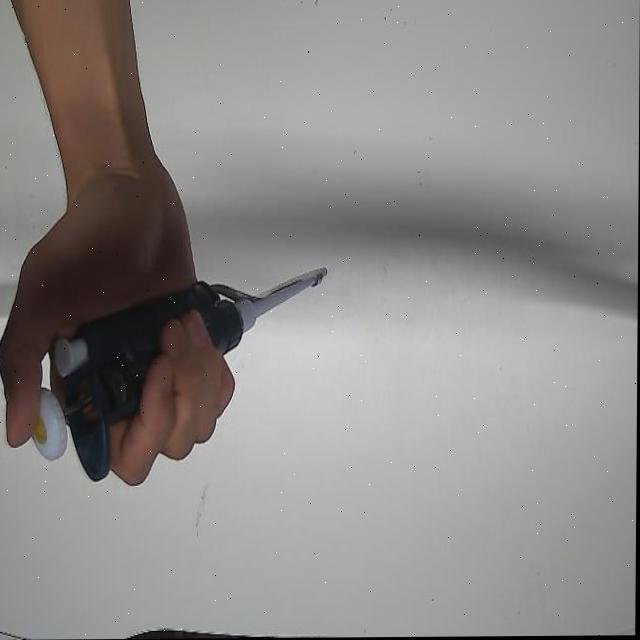Single Channel Pipettor: (18, 262, 344, 487)
